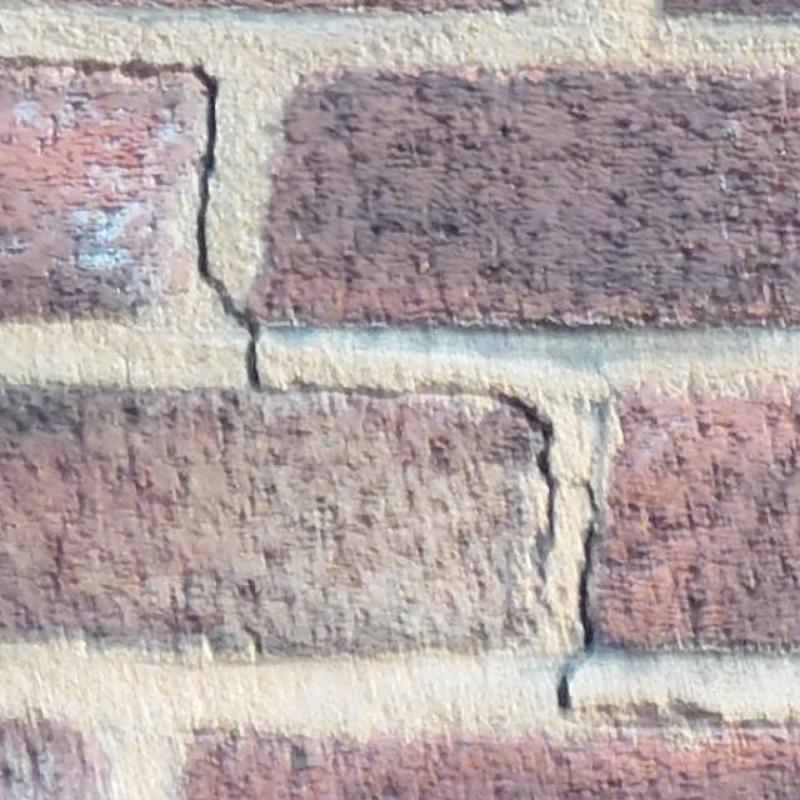pothole: (120, 59, 400, 398), (424, 388, 555, 580), (556, 481, 602, 712)
